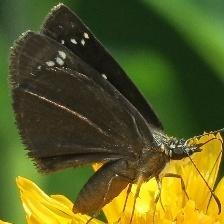butterfly: (8, 4, 201, 215)
